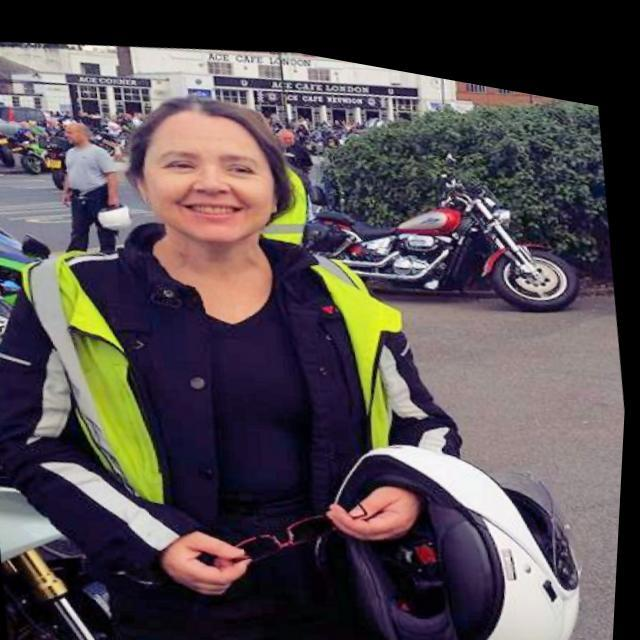Nonhelmet: (121, 92, 296, 247)
